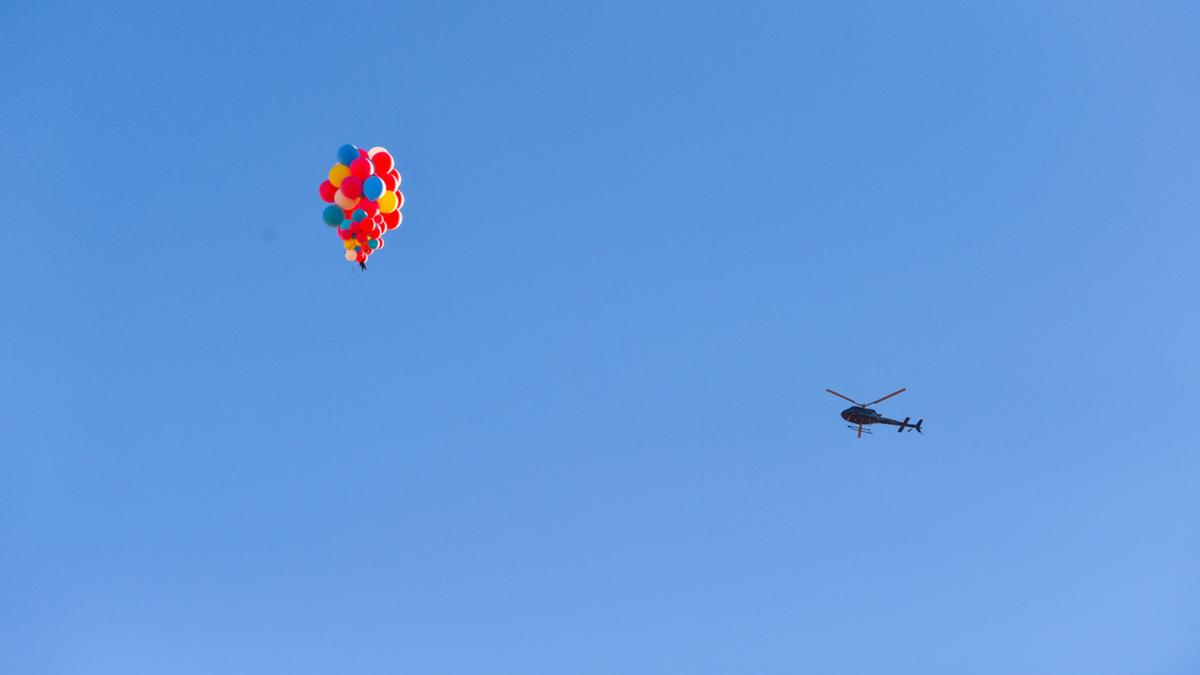Balloon: (362, 175, 386, 200), (341, 176, 363, 200), (322, 204, 344, 227), (337, 144, 360, 165), (349, 158, 373, 177), (373, 152, 392, 175), (362, 217, 374, 232), (355, 239, 380, 246), (357, 252, 369, 265), (350, 221, 362, 233), (345, 250, 357, 262), (374, 215, 383, 225)
